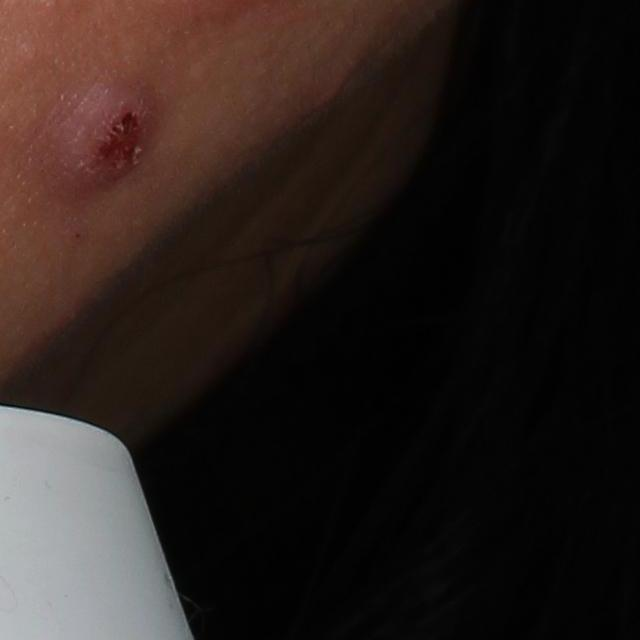nodule: (33, 59, 162, 204)
